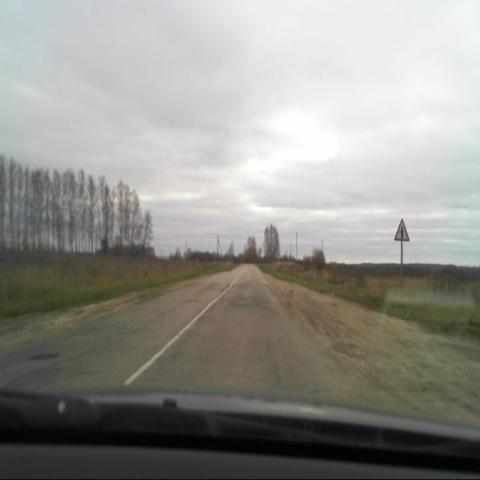2_3_3: (393, 218, 410, 242)
